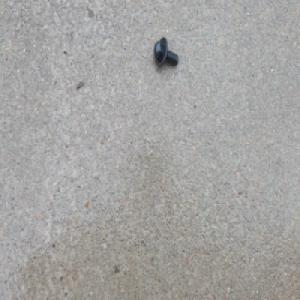BoltWasher: (152, 35, 178, 68)
